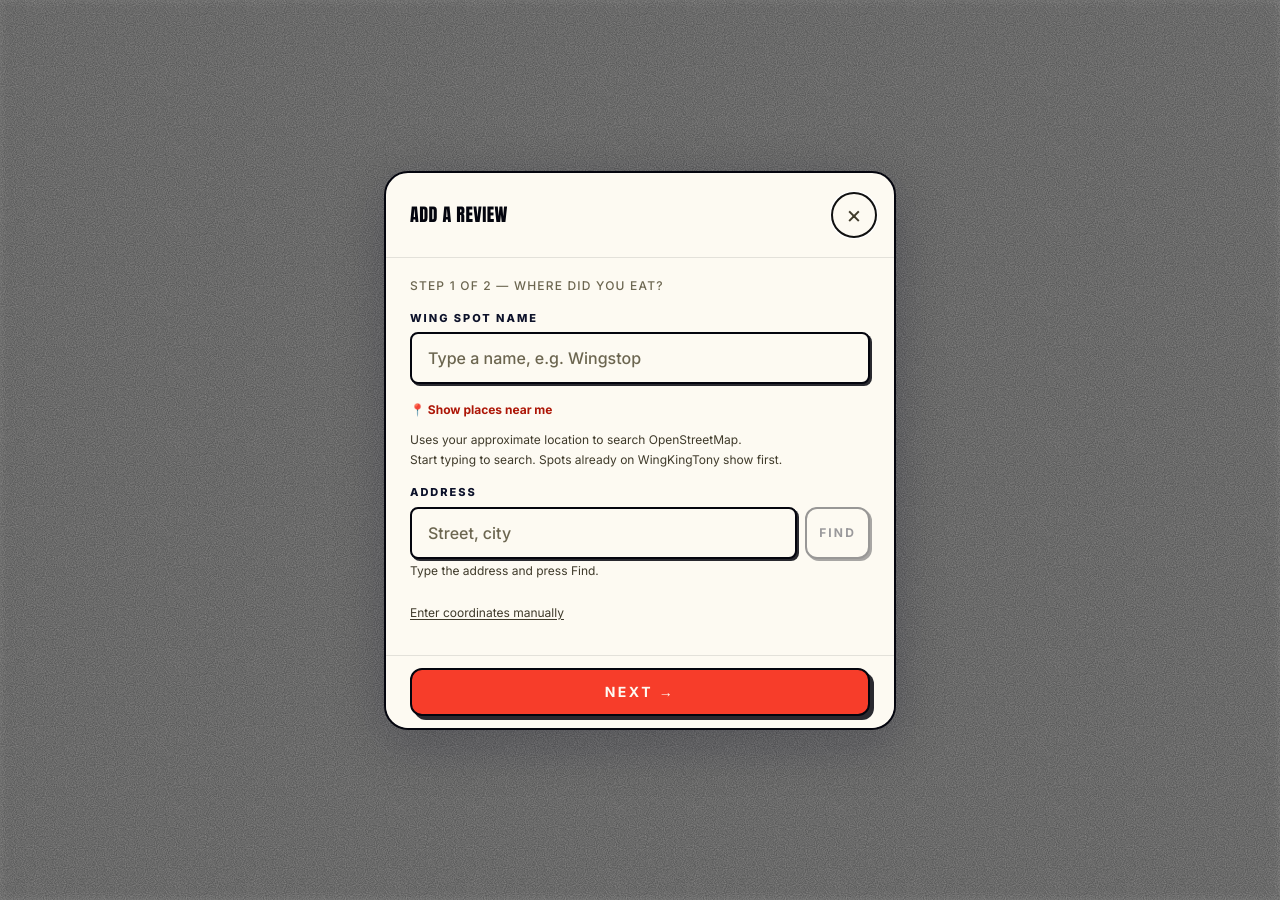
Test: ReviewFormModal — step 1 location › "Find" with a match collapses to a summary with "Location set"
Type "1939 Fleet St, Baltimore" into the field labelled "Address" at [604, 532], box [410,506,797,558]
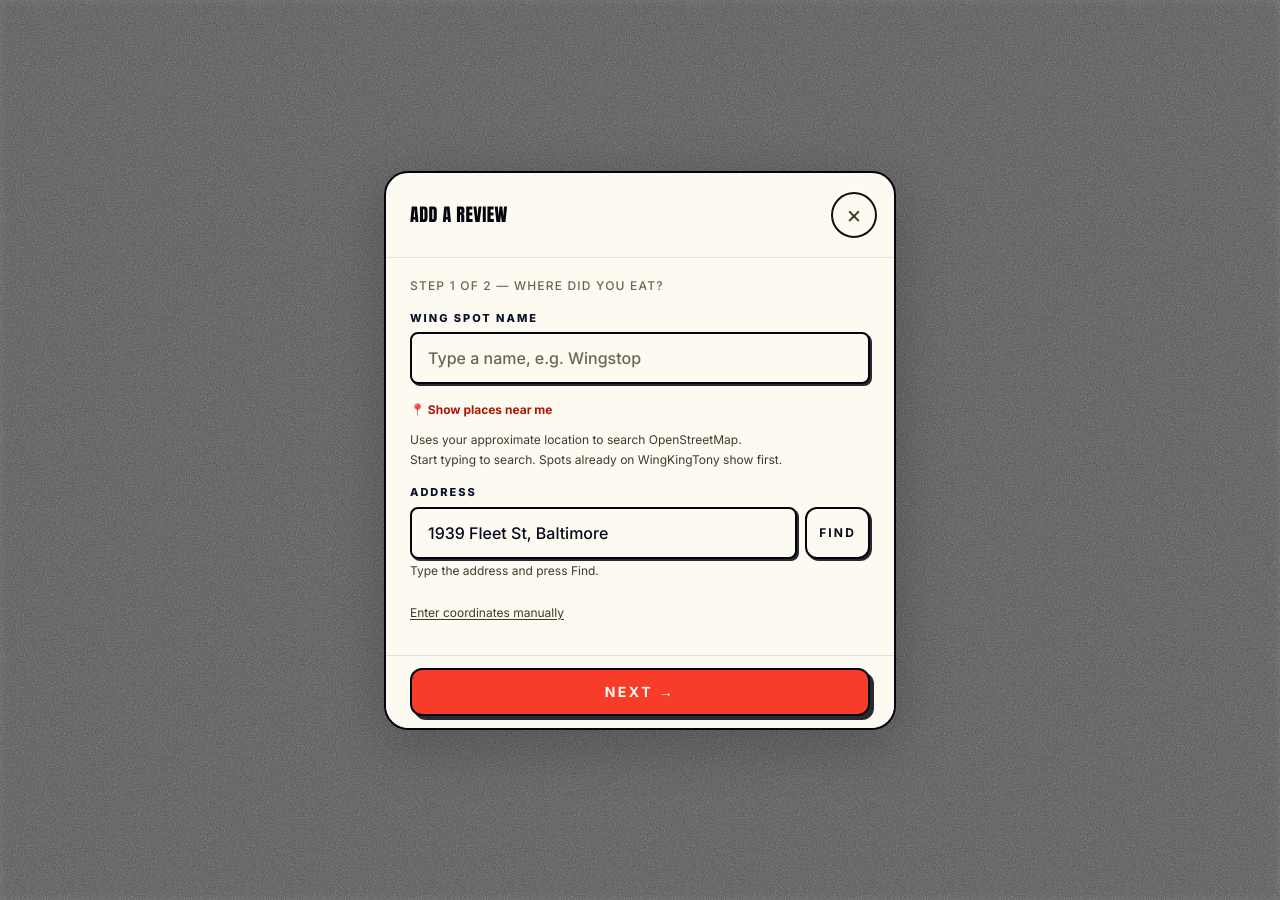
Click the button "Find" at [838, 532], box [805,506,870,558]
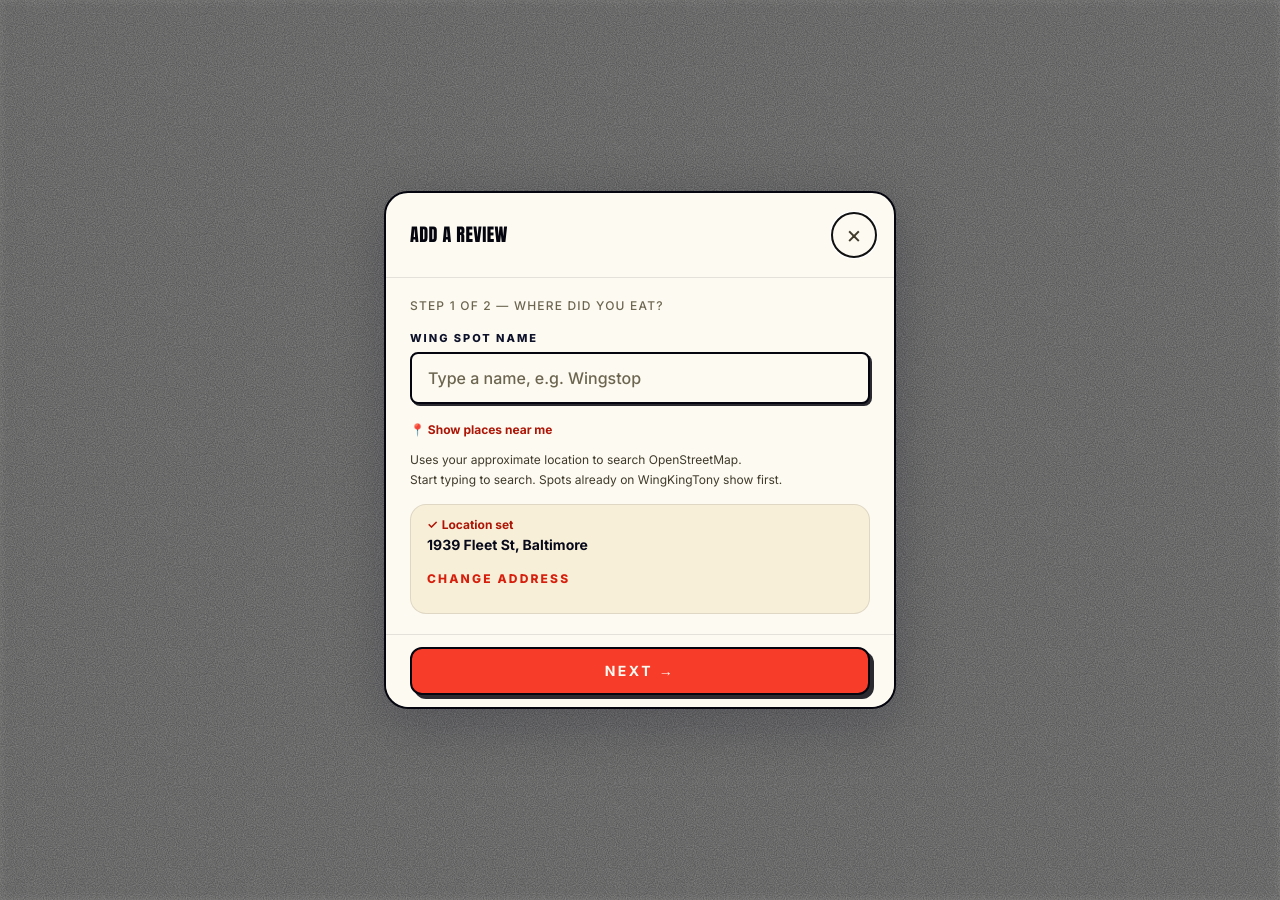
Check: the text "✓ Location set" is shown, box [427,517,514,532]
Click the button "Change address" at [499, 579], box [427,557,570,601]
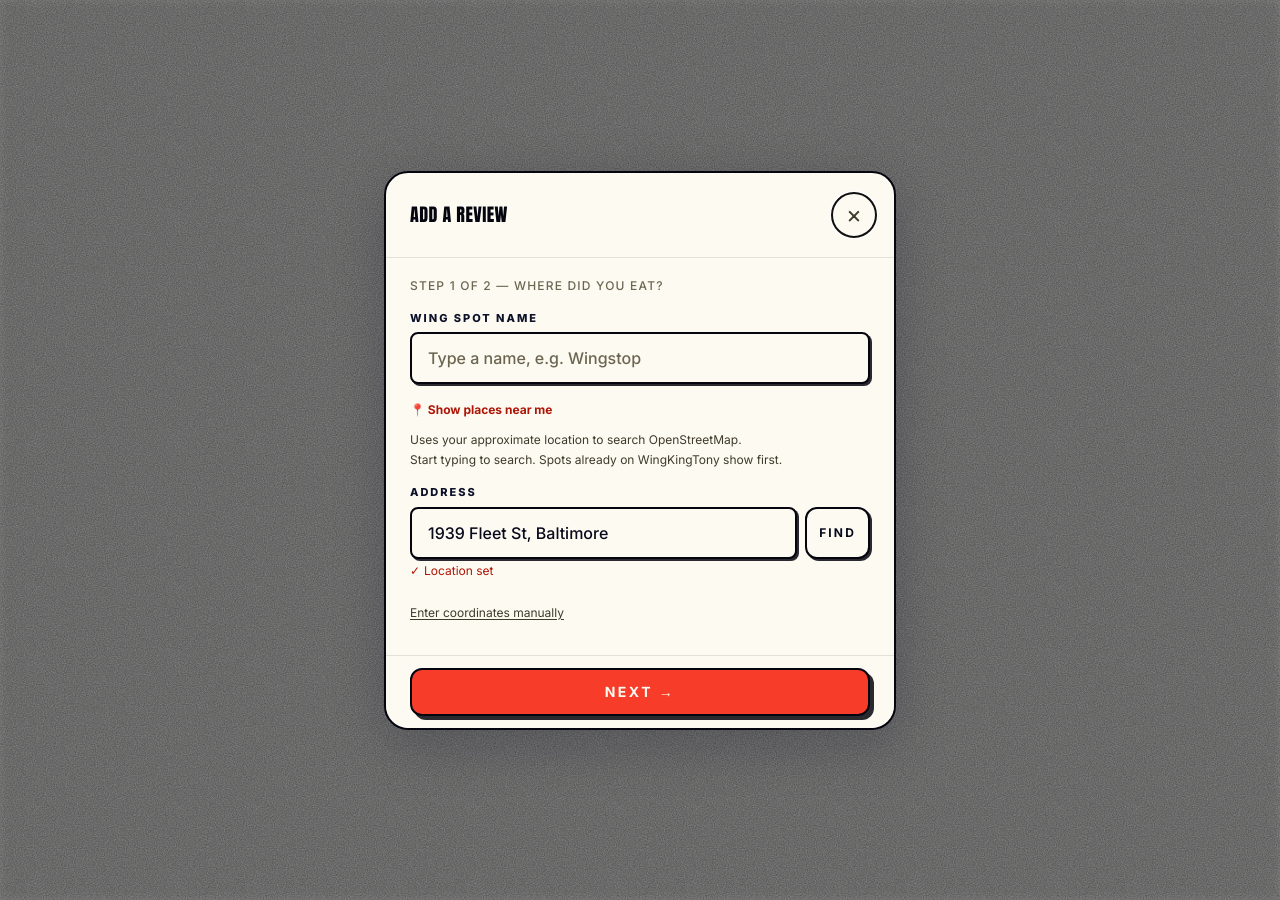
Check: the field labelled "Address" holds "1939 Fleet St, Baltimore", box [410,506,797,558]
